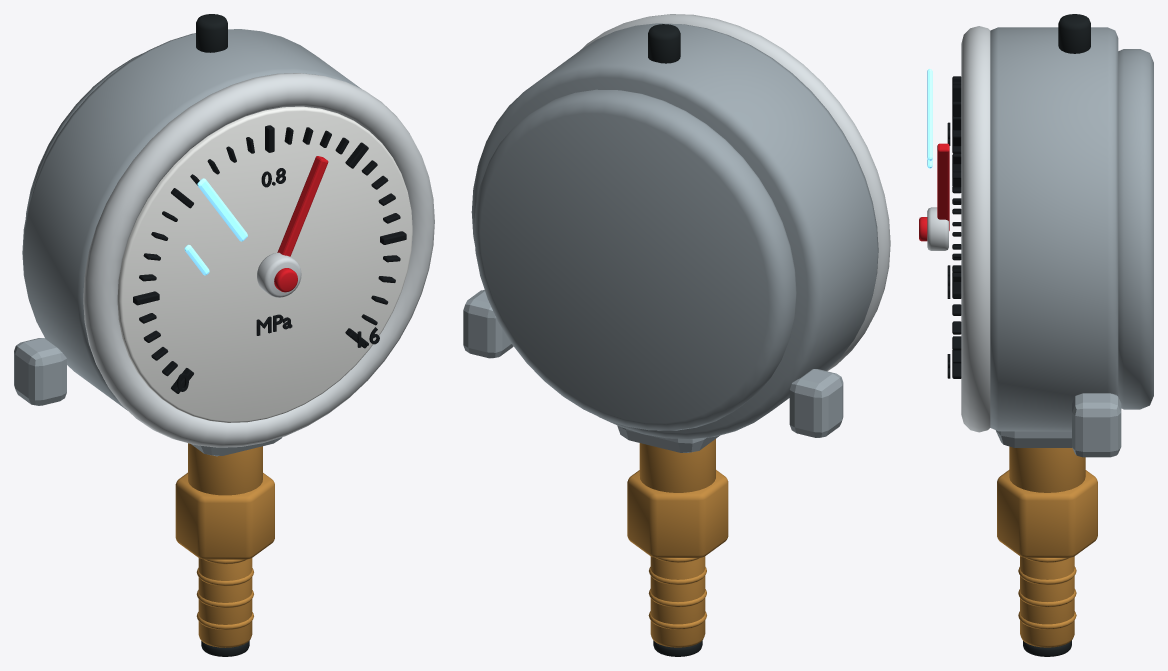
Rendered from pressure-gauge-radial-dn100-generic-v1.glb.
3 renders of one model, left to right at view 1: azimuth 30°, elevation 25°; view 2: azimuth 150°, elevation 25°; view 3: azimuth 270°, elevation 25°, orthographic.
Parts seen in each view (by area): view 1: GAUGE_DIAL_FACE, GAUGE_FRONT_BEZEL, GAUGE_CASE_MAIN, PROCESS_HEX_ADAPTER, PROCESS_THREAD_G1_2, CASE_SIDE_TAB_L, PRESSURE_STEM, DIAL_NEEDLE, CASE_VENT_PLUG, DIAL_NEEDLE_HUB, GLASS_REFLECTION_LONG, GAUGE_REAR_CAP; view 2: GAUGE_REAR_CAP, GAUGE_CASE_MAIN, PROCESS_HEX_ADAPTER, GAUGE_FRONT_BEZEL, PROCESS_THREAD_G1_2, CASE_SIDE_TAB_L, PRESSURE_STEM, CASE_SIDE_TAB_R, CASE_VENT_PLUG, CASE_BOTTOM_BOSS; view 3: GAUGE_CASE_MAIN, GAUGE_REAR_CAP, GAUGE_FRONT_BEZEL, PROCESS_HEX_ADAPTER, PROCESS_THREAD_G1_2, PRESSURE_STEM, CASE_SIDE_TAB_R, CASE_BOTTOM_BOSS, CASE_VENT_PLUG, DIAL_NEEDLE, DIAL_NEEDLE_HUB, GLASS_REFLECTION_LONG (+4 smaller).
Boxes of the visible parts, left/top/right/bottom form: GAUGE_DIAL_FACE: left=117, top=106, right=412, bottom=422; GAUGE_FRONT_BEZEL: left=83, top=73, right=434, bottom=447; GAUGE_CASE_MAIN: left=22, top=29, right=361, bottom=410; PROCESS_HEX_ADAPTER: left=175, top=472, right=274, bottom=559; PROCESS_THREAD_G1_2: left=198, top=558, right=252, bottom=647; CASE_SIDE_TAB_L: left=14, top=338, right=66, bottom=405; PRESSURE_STEM: left=188, top=443, right=262, bottom=495; DIAL_NEEDLE: left=277, top=156, right=328, bottom=256; CASE_VENT_PLUG: left=196, top=14, right=227, bottom=52; DIAL_NEEDLE_HUB: left=257, top=252, right=301, bottom=297; GLASS_REFLECTION_LONG: left=197, top=178, right=247, bottom=241; GAUGE_REAR_CAP: left=25, top=52, right=144, bottom=217; GAUGE_REAR_CAP: left=474, top=89, right=796, bottom=430; GAUGE_CASE_MAIN: left=471, top=23, right=878, bottom=439; PROCESS_HEX_ADAPTER: left=627, top=470, right=728, bottom=557; GAUGE_FRONT_BEZEL: left=580, top=14, right=890, bottom=371; PROCESS_THREAD_G1_2: left=650, top=556, right=705, bottom=647; CASE_SIDE_TAB_L: left=789, top=369, right=843, bottom=437; PRESSURE_STEM: left=639, top=439, right=715, bottom=492; CASE_SIDE_TAB_R: left=463, top=290, right=513, bottom=358; CASE_VENT_PLUG: left=648, top=24, right=680, bottom=63; CASE_BOTTOM_BOSS: left=617, top=425, right=719, bottom=452; GAUGE_CASE_MAIN: left=990, top=27, right=1118, bottom=431; GAUGE_REAR_CAP: left=1118, top=49, right=1153, bottom=409; GAUGE_FRONT_BEZEL: left=961, top=26, right=990, bottom=432; PROCESS_HEX_ADAPTER: left=997, top=470, right=1097, bottom=557; PROCESS_THREAD_G1_2: left=1020, top=556, right=1074, bottom=647; PRESSURE_STEM: left=1009, top=446, right=1085, bottom=492; CASE_SIDE_TAB_R: left=1072, top=393, right=1121, bottom=457; CASE_BOTTOM_BOSS: left=996, top=430, right=1071, bottom=447; CASE_VENT_PLUG: left=1058, top=14, right=1090, bottom=53; DIAL_NEEDLE: left=937, top=143, right=949, bottom=230; DIAL_NEEDLE_HUB: left=927, top=207, right=948, bottom=250; GLASS_REFLECTION_LONG: left=927, top=69, right=932, bottom=160.
Bounding box in the file's own units: 0.154 × 0.254 × 0.086.
